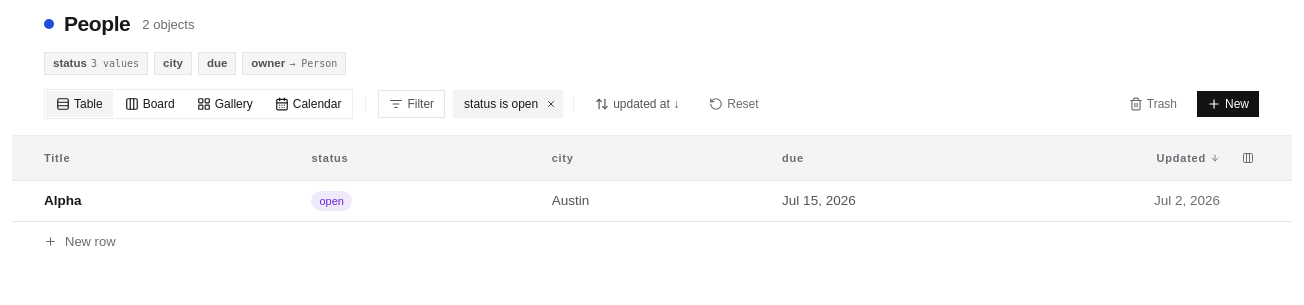
Scenario: view config drives the rendered set › a filter narrows the rows, and dropping it re-queries and widens them
The width and height of the screenshot is (1304, 305).
Expected: the text "Alpha" is shown, x1=44 y1=191 x2=82 y2=211
Expected: the text "Beta" is not shown
Click the button named "remove filter".
click(551, 104)  # box x1=544 y1=97 x2=558 y2=111
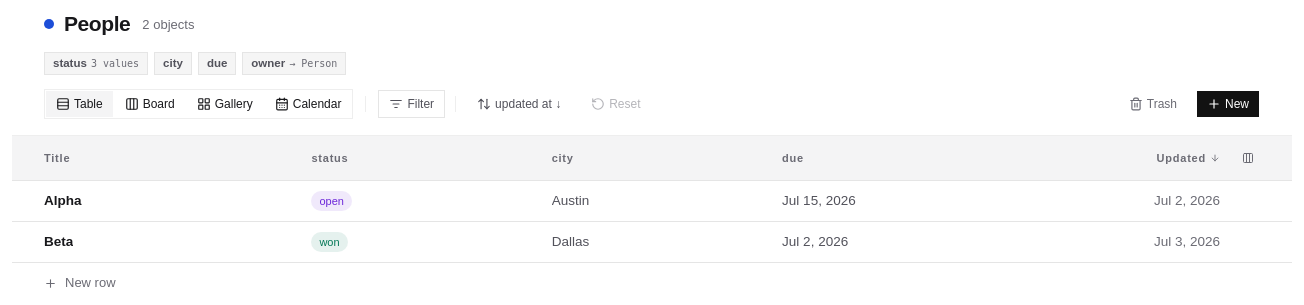
Now the text "Beta" is shown, box x1=44 y1=232 x2=73 y2=252
